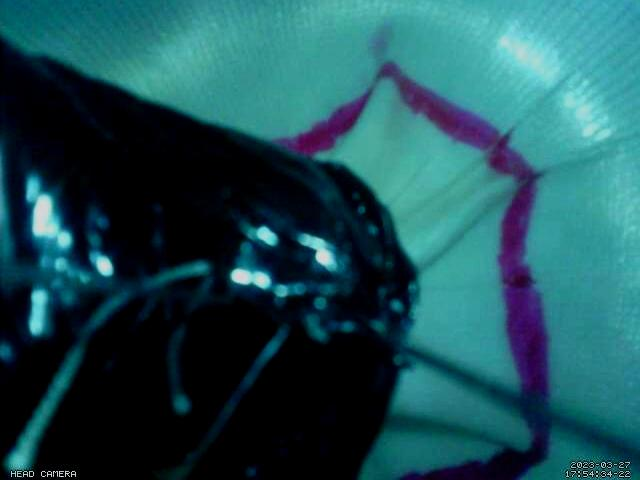red-circle: (271, 60, 552, 480)
